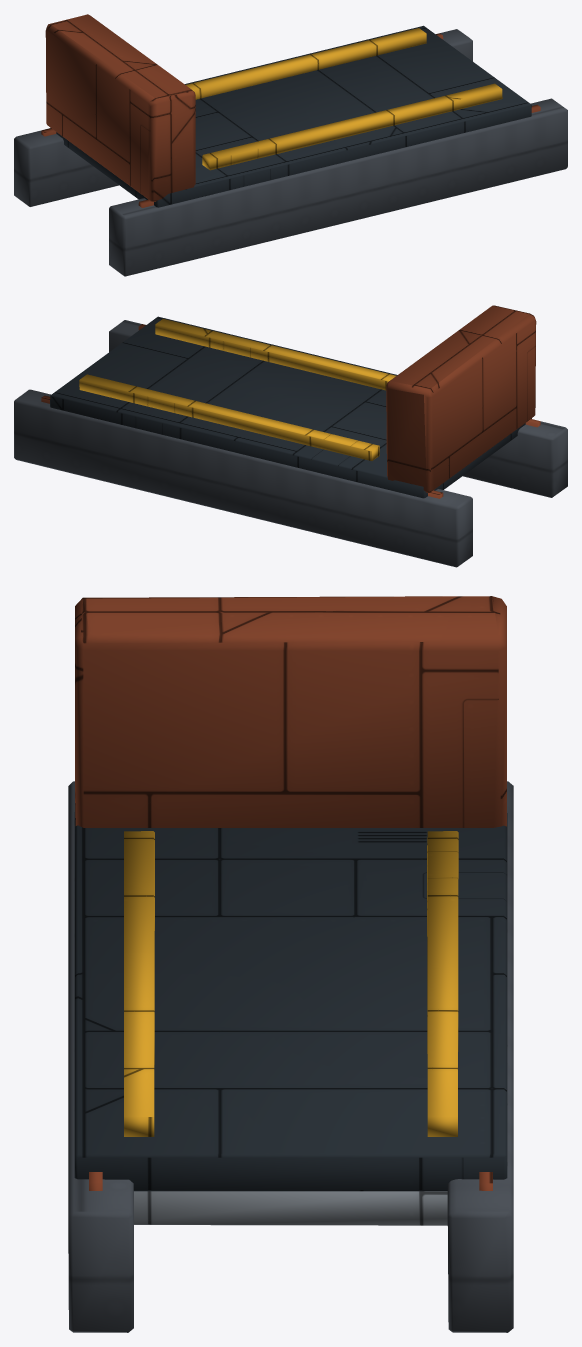
Rendered from ops_launch_sled_lod2.glb.
3 renders of one model, top to bottom at view 1: azimuth 30°, elevation 25°; view 2: azimuth 150°, elevation 25°; view 3: azimuth 270°, elevation 25°, orthographic. The views are drawn at different scales.
Visible parts, largest first — view 1: LOD2_MOTION_SLED_TRAVEL_Mechanical, LOD2_MOTION_SLED_TRAVEL_Armor, LOD2_MOTION_SLED_TRAVEL_Hull, LOD2_MOTION_SLED_TRAVEL_Warning; view 2: LOD2_MOTION_SLED_TRAVEL_Mechanical, LOD2_MOTION_SLED_TRAVEL_Armor, LOD2_MOTION_SLED_TRAVEL_Hull, LOD2_MOTION_SLED_TRAVEL_Warning; view 3: LOD2_MOTION_SLED_TRAVEL_Armor, LOD2_MOTION_SLED_TRAVEL_Hull, LOD2_MOTION_SLED_TRAVEL_Mechanical, LOD2_MOTION_SLED_TRAVEL_Warning, LOD2_MOTION_SLED_TRAVEL_BrushedMetal.
Boxes of the visible parts, <box> form: LOD2_MOTION_SLED_TRAVEL_Mechanical: <box>14,29,567,276</box>; LOD2_MOTION_SLED_TRAVEL_Armor: <box>56,25,531,207</box>; LOD2_MOTION_SLED_TRAVEL_Hull: <box>41,14,540,207</box>; LOD2_MOTION_SLED_TRAVEL_Warning: <box>186,28,502,170</box>; LOD2_MOTION_SLED_TRAVEL_Mechanical: <box>14,320,567,567</box>; LOD2_MOTION_SLED_TRAVEL_Armor: <box>50,316,531,498</box>; LOD2_MOTION_SLED_TRAVEL_Hull: <box>41,305,540,498</box>; LOD2_MOTION_SLED_TRAVEL_Warning: <box>79,319,396,460</box>; LOD2_MOTION_SLED_TRAVEL_Armor: <box>74,803,507,1191</box>; LOD2_MOTION_SLED_TRAVEL_Hull: <box>75,596,506,1190</box>; LOD2_MOTION_SLED_TRAVEL_Mechanical: <box>68,781,513,1332</box>; LOD2_MOTION_SLED_TRAVEL_Warning: <box>124,831,458,1136</box>; LOD2_MOTION_SLED_TRAVEL_BrushedMetal: <box>134,1191,447,1225</box>.
Bounding box in the file's own units: 3.8 × 1.37 × 1.64.
5 materials, 5 textured.
